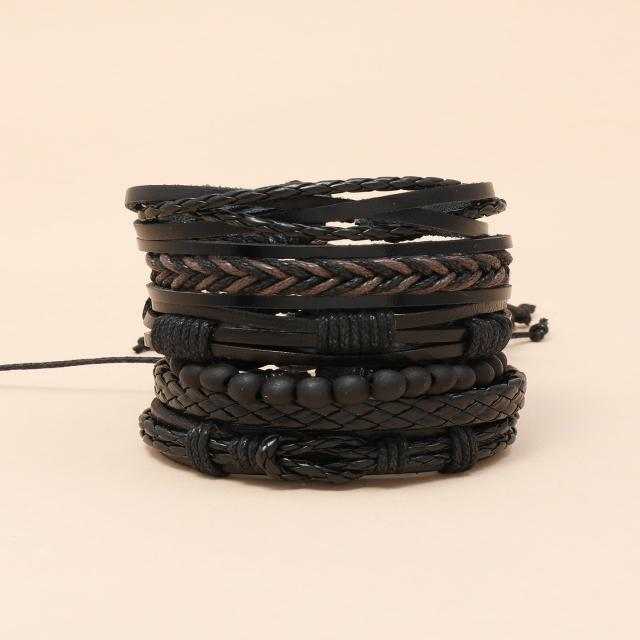bracelet: (67, 119, 640, 530)
